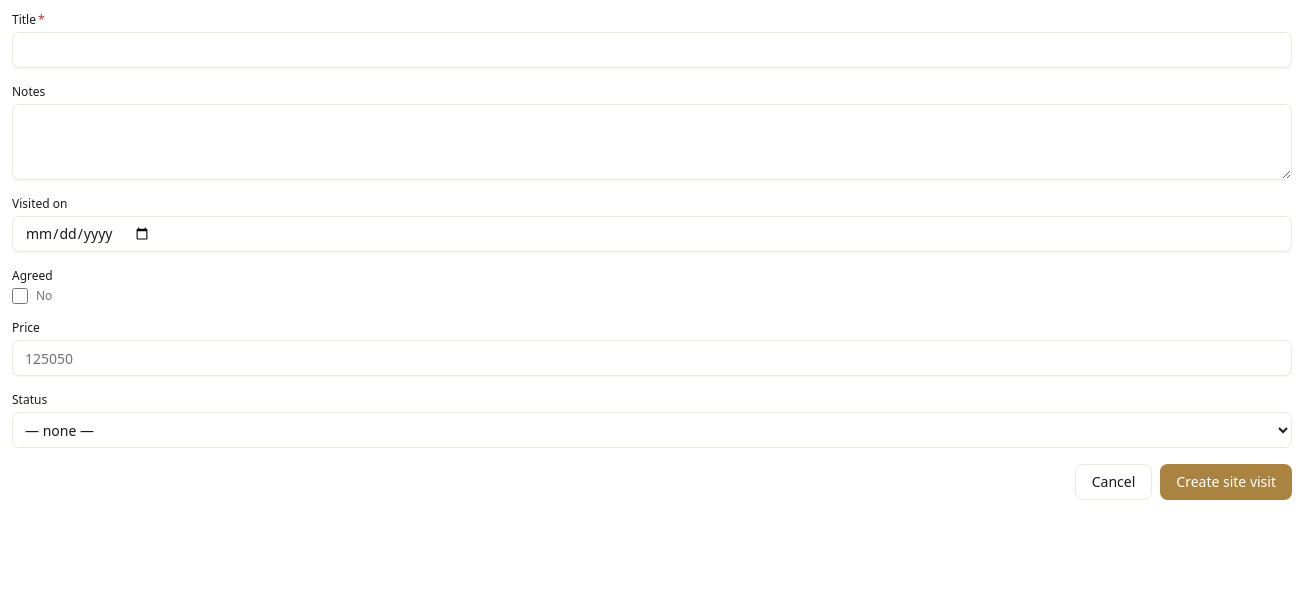
A record form generated from field definitions › renders the engine's own field errors against the field they belong to
The image size is (1304, 592).
Click the button "Create site visit" at (1226, 482), box [1160,464,1292,500]
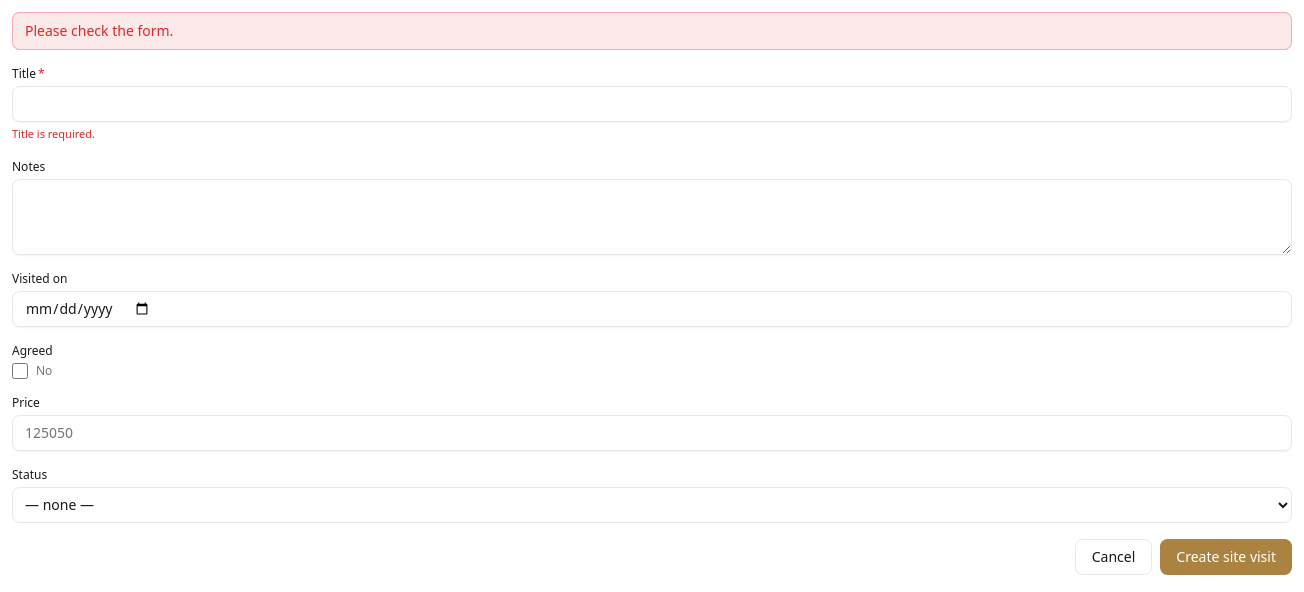
Expected: the text "Title is required." is shown, [12,126,95,141]
